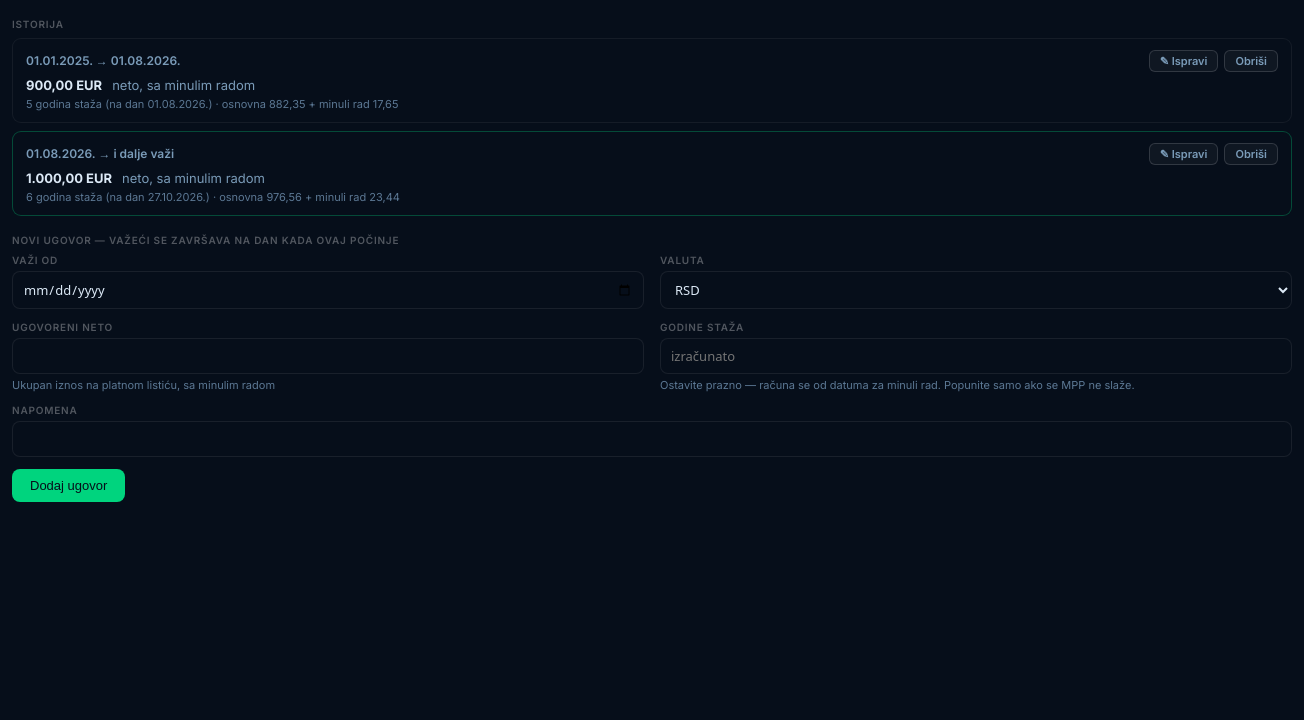
Test: correcting a contract › opens the contract into a form with its own figures in it
Click the button titled "Ispravi ovaj ugovor" in the row of "i dalje važi": (1184, 154) [1149,143,1218,165]
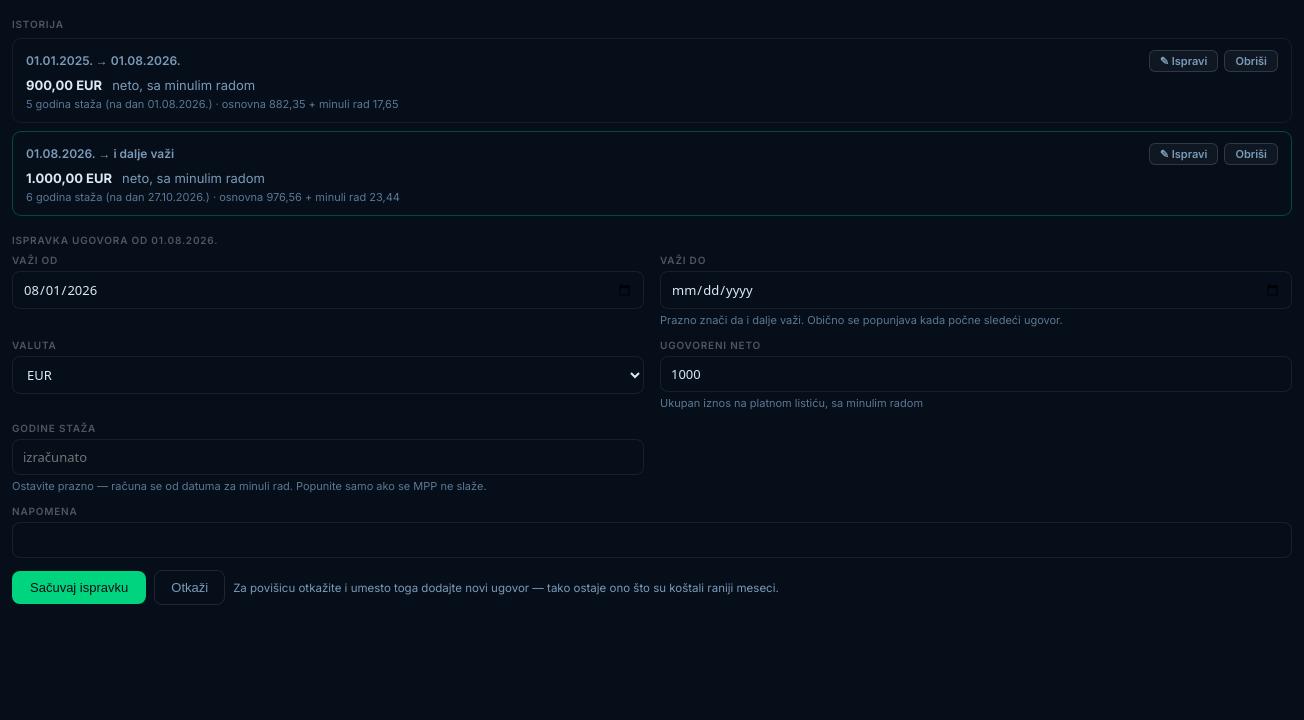
Result: the text "Ispravka ugovora od 01.08.2026." is shown at [12,234,218,246]
Result: the field showing "1000" is shown at [660,356,1292,392]
